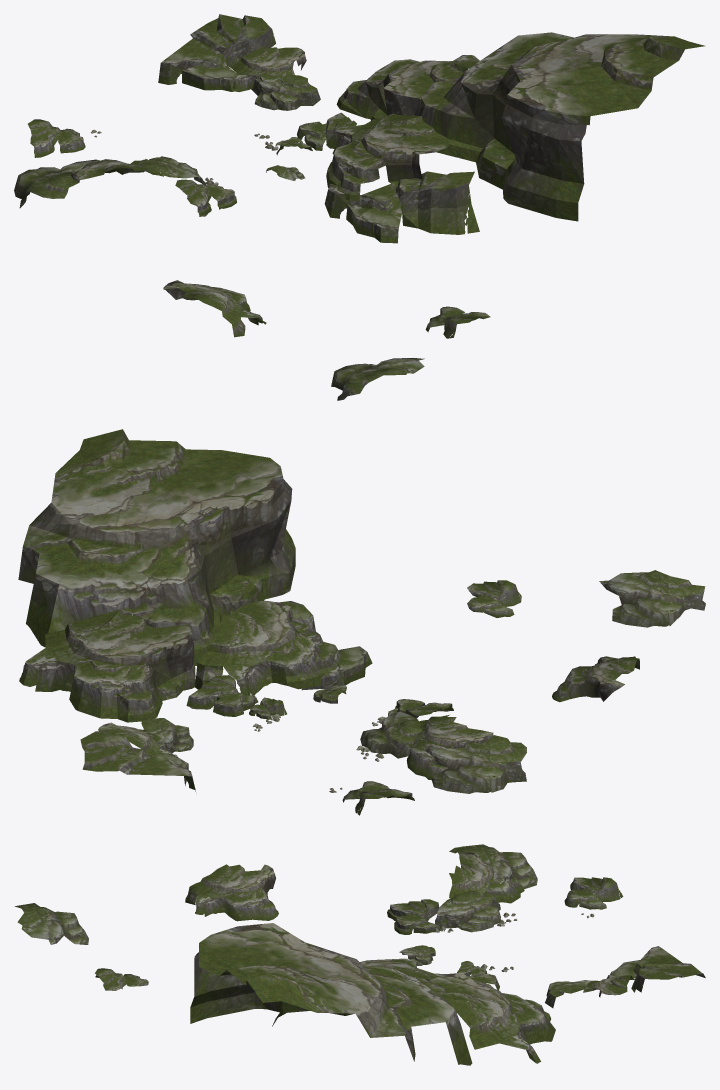
The model's file is srpg_quests_rock01_all.FBX.
3 views of the same model, one above another, from view 1: azimuth 30°, elevation 25°; view 2: azimuth 150°, elevation 25°; view 3: azimuth 270°, elevation 25° (orthographic). The views are drawn at different scales.
Visible parts, largest first — view 1: srpg_quests_rock01_all; view 2: srpg_quests_rock01_all; view 3: srpg_quests_rock01_all.
Part boxes in pixels (left/top/right/bottom): srpg_quests_rock01_all: left=14, top=14, right=704, bottom=400; srpg_quests_rock01_all: left=18, top=429, right=705, bottom=815; srpg_quests_rock01_all: left=15, top=844, right=705, bottom=1065.
Bounding box in the file's own units: 3.23 × 0.8625 × 3.78.
